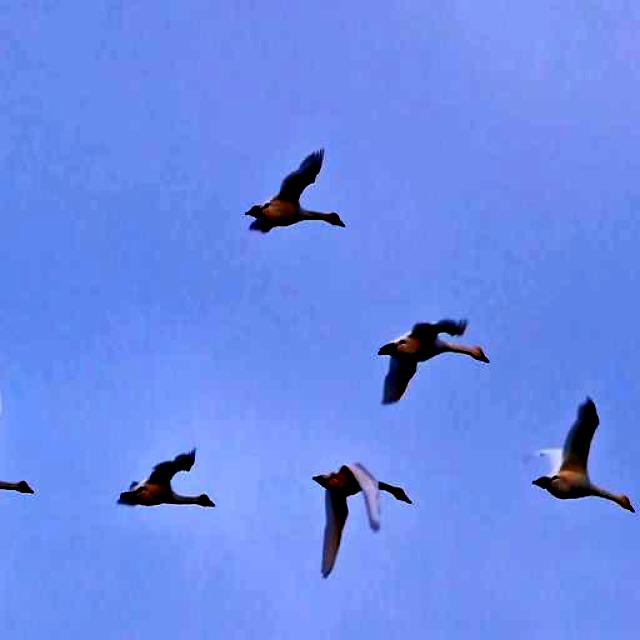airplane: (298, 442, 421, 590), (370, 291, 488, 416), (529, 389, 638, 522), (238, 131, 348, 246), (108, 428, 224, 521), (0, 365, 45, 516)
